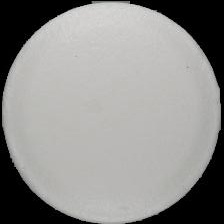54868-4976: (0, 0, 224, 224)
